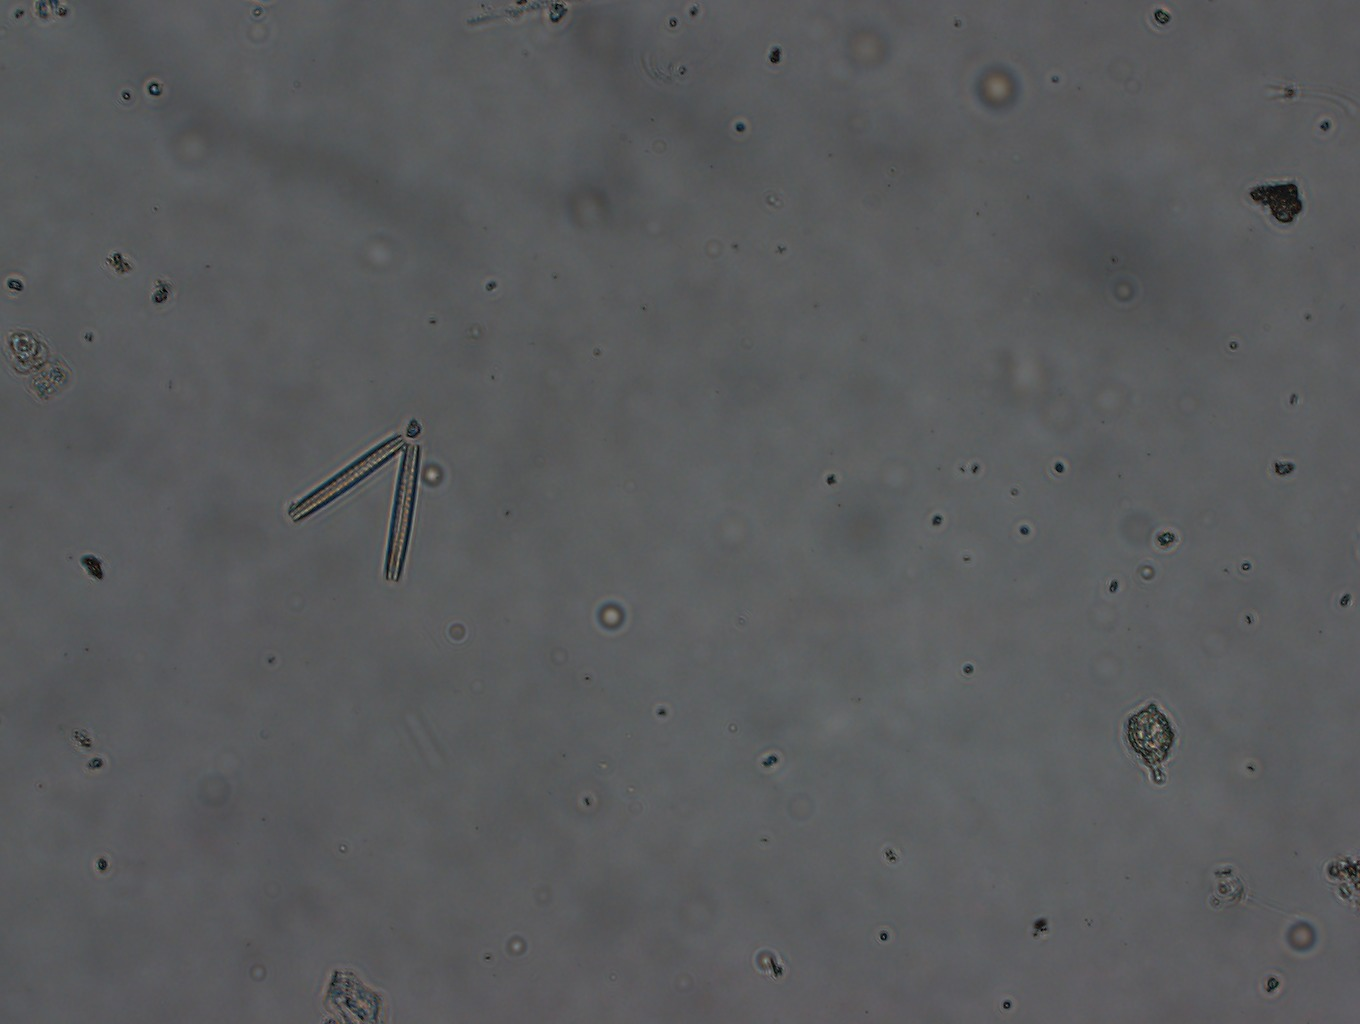thalassionema nitzschioides: (280, 417, 436, 583)
